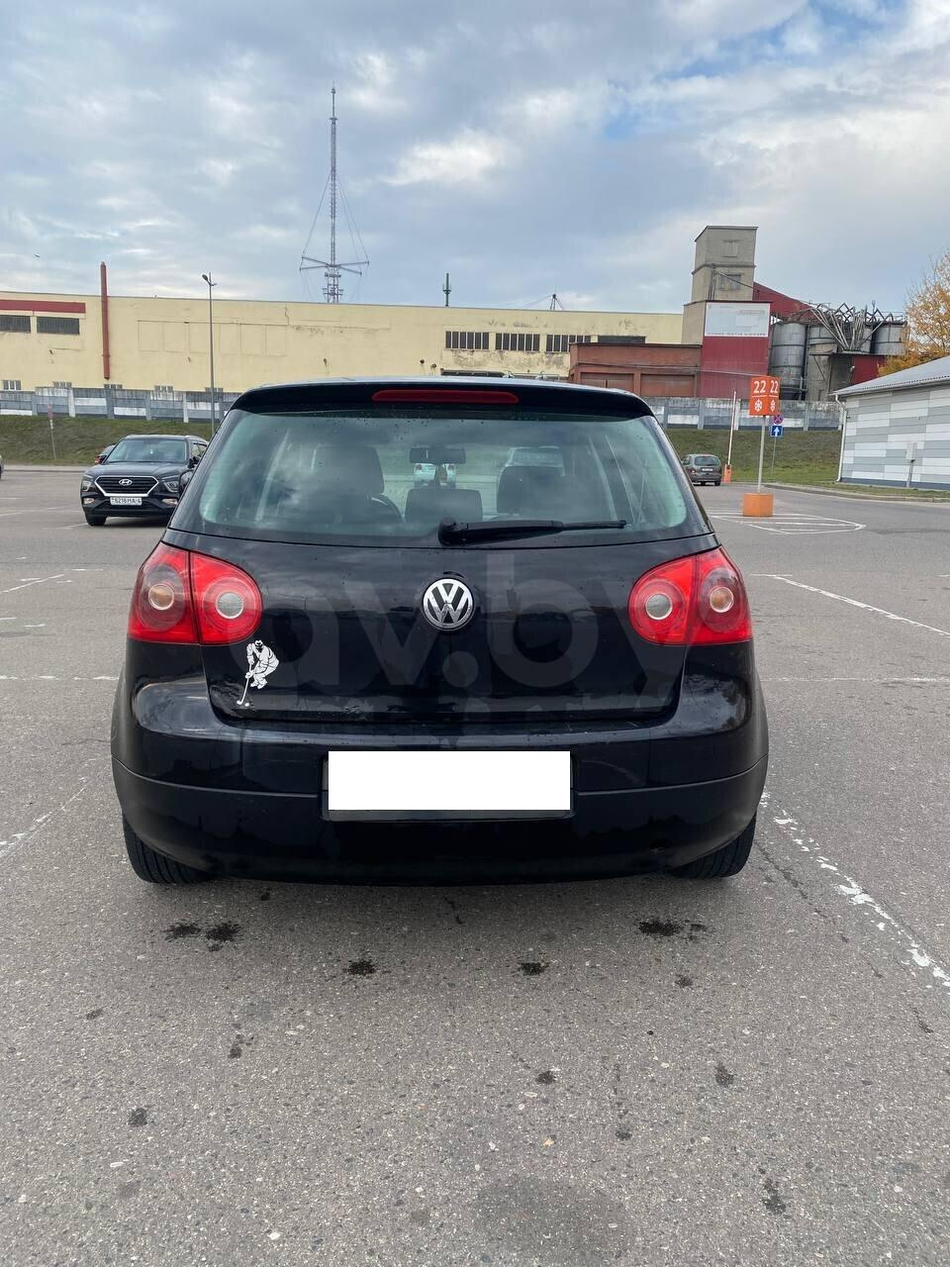Golf_2003-2009: (121, 372, 776, 912)
